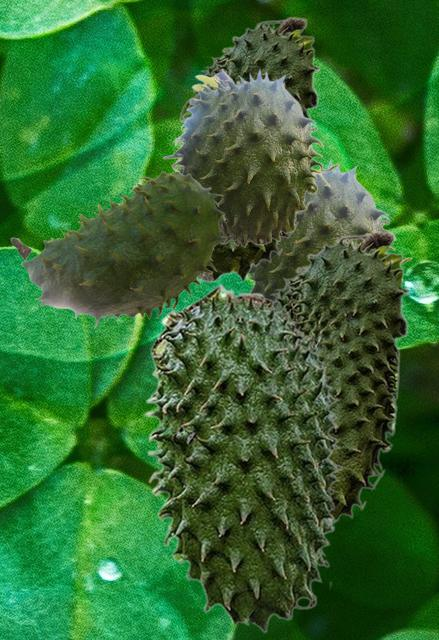guyabano: (144, 282, 343, 632), (268, 230, 409, 535), (174, 16, 319, 282), (10, 171, 227, 327), (162, 67, 339, 247), (247, 158, 412, 299)
